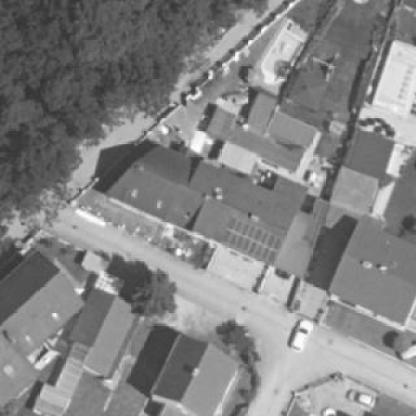solar-pv-panel: (222, 216, 283, 263)
